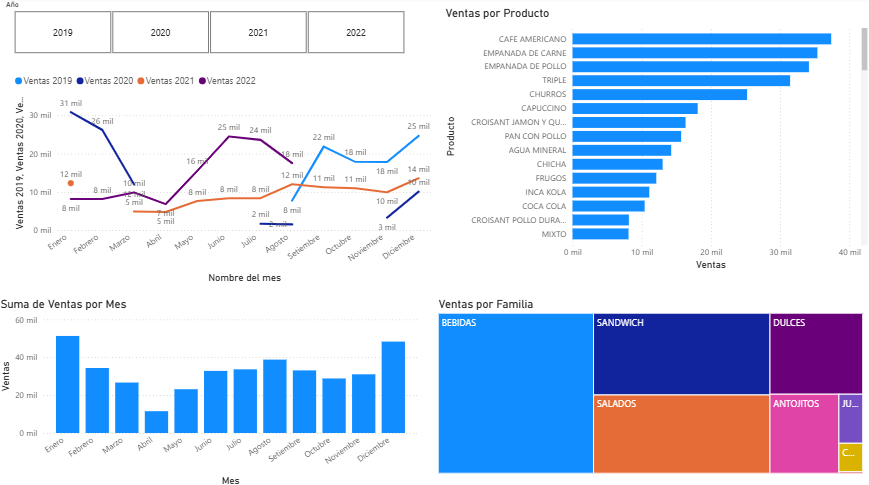

This screenshot's page, from the dashboard's own definition file:
{"tool":"powerbi","page":{"name":"Evolutivo_Venta","canvas":[1280,720],"ordinal":2},"visuals":[{"type":"columnChart","title":"Suma de Ventas por Mes","fields":{"Y":["MEDIDAS.Suma de Ventas"],"Category":["TIEMPO.Nombre del mes"]},"box":[0,439,619.9,281],"z":0},{"type":"treemap","title":"Ventas por Familia","fields":{"Group":["PRODUCTO.Familia"],"Values":["MEDIDAS.Suma de Ventas"]},"box":[640.4,439,630.8,262.9],"z":1000},{"type":"slicer","fields":{"Values":["TIEMPO.Año"]},"box":[0,0,619.9,89.2],"z":2000},{"type":"lineChart","fields":{"Category":["TIEMPO.Nombre del mes"],"Y":["MEDIDAS.Suma de Ventas 2019","MEDIDAS.Suma de Ventas 2020","MEDIDAS.Suma de Ventas 2021","MEDIDAS.Suma de Ventas 2022"]},"box":[20.7,102.1,620,321.1],"z":3000},{"type":"barChart","fields":{"Category":["PRODUCTO.Producto"],"Y":["MEDIDAS.Suma de Ventas"]},"box":[651.3,13.3,628.3,392],"z":4000}]}

Visuals, with their boxes in screenshot pixels (x1, y1, x2, y2), scaled from the page's 1280x720 canvas onto the 869x485 screenshot:
"Suma de Ventas por Mes" columnChart: x1=0 y1=296 x2=421 y2=484
"Ventas por Familia" treemap: x1=435 y1=296 x2=863 y2=473
slicer - TIEMPO.Año: x1=0 y1=0 x2=421 y2=60
lineChart - TIEMPO.Nombre del mes x MEDIDAS.Suma de Ventas 2019: x1=14 y1=69 x2=435 y2=285
barChart - PRODUCTO.Producto x MEDIDAS.Suma de Ventas: x1=442 y1=9 x2=868 y2=273
